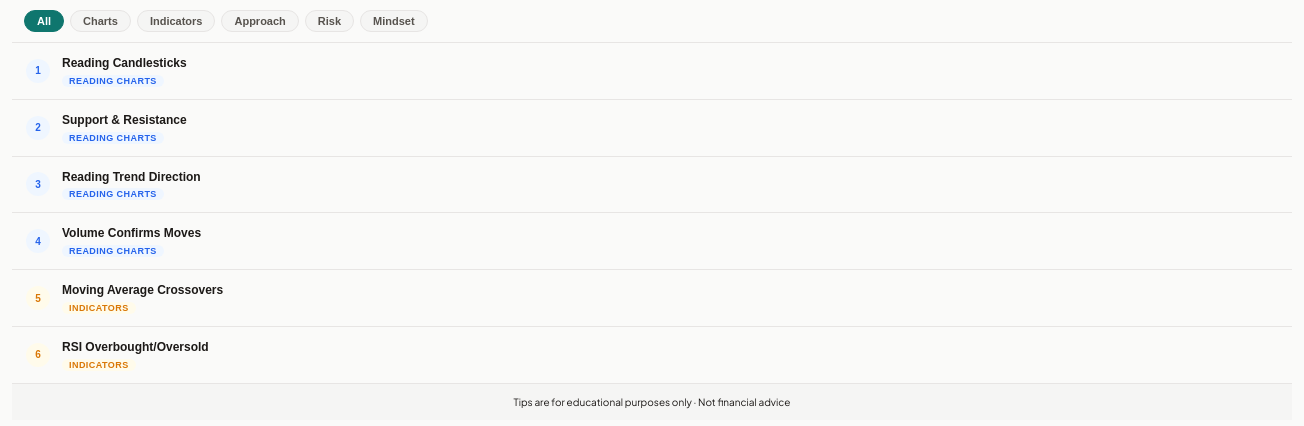
Test case: HintPanelContent › filters hints when a category is selected
Click the button "Risk" at (329, 21), box top-left (305, 10), bottom-right (354, 32)
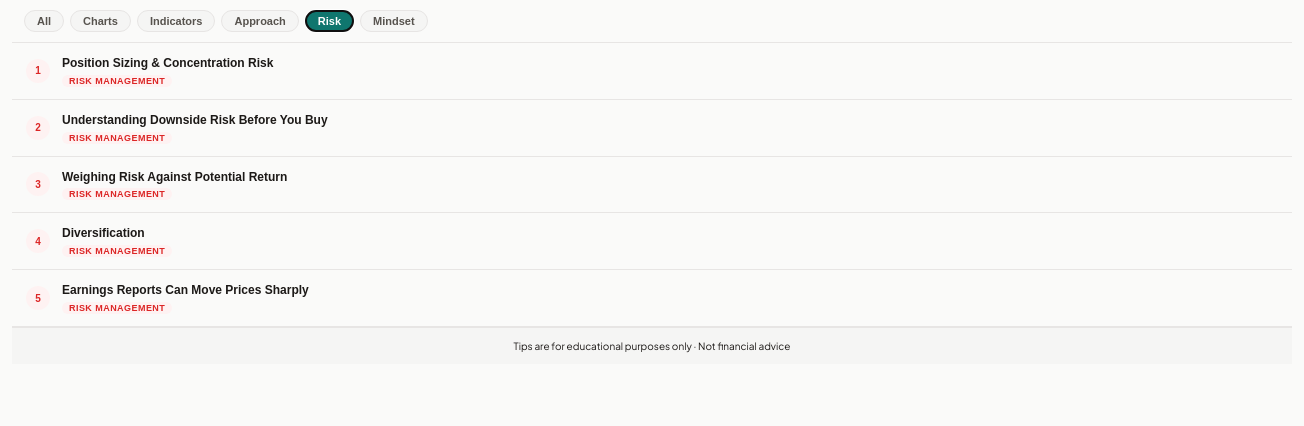
Now the button "Reading Candlesticks" is gone
